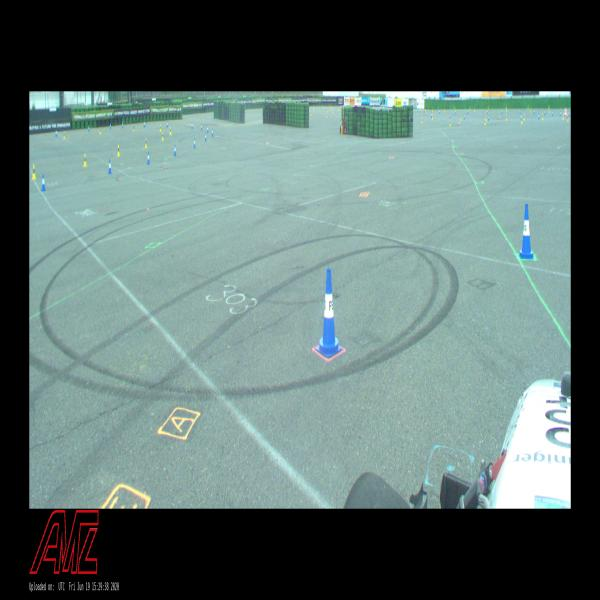blue_cone: (316, 268, 342, 357), (519, 203, 534, 260), (41, 174, 46, 191), (108, 159, 112, 174), (147, 151, 150, 165), (193, 138, 196, 148), (174, 144, 176, 156), (205, 132, 207, 142), (212, 128, 214, 137), (538, 112, 540, 120), (166, 120, 168, 128), (191, 122, 193, 130), (88, 125, 90, 132), (520, 113, 522, 118), (207, 125, 208, 133), (144, 120, 145, 128), (110, 122, 111, 130), (56, 129, 57, 137), (519, 110, 521, 114), (201, 123, 202, 131), (340, 120, 341, 128), (464, 113, 465, 120), (569, 110, 570, 117), (122, 122, 123, 128), (552, 110, 553, 116), (534, 109, 535, 115), (488, 114, 489, 120), (544, 110, 545, 116), (439, 109, 440, 114), (487, 109, 488, 114), (455, 110, 456, 114), (431, 114, 432, 118), (468, 109, 468, 114), (560, 111, 560, 116), (502, 109, 502, 114), (424, 107, 424, 112), (450, 113, 450, 118)
large_orange_cone: (564, 108, 566, 116), (566, 108, 567, 116)
orange_cone: (458, 119, 460, 126), (425, 110, 426, 116), (499, 115, 500, 120)
yellow_cone: (32, 164, 36, 179), (83, 153, 87, 167), (118, 144, 120, 157), (145, 138, 147, 148), (162, 131, 164, 141), (170, 127, 172, 135), (160, 124, 162, 132), (64, 131, 66, 139), (521, 116, 523, 124), (341, 120, 343, 128), (523, 114, 525, 121), (421, 117, 423, 124), (449, 120, 451, 126), (484, 119, 486, 125), (485, 115, 487, 120), (322, 104, 324, 109), (542, 112, 543, 121), (133, 123, 134, 132), (100, 126, 101, 134), (332, 109, 334, 113), (567, 115, 568, 122), (460, 114, 461, 120), (563, 113, 564, 119), (432, 114, 433, 120), (506, 114, 507, 120), (560, 108, 561, 114), (444, 107, 445, 112), (530, 107, 531, 112), (506, 105, 507, 110), (313, 105, 314, 110), (425, 106, 426, 111), (488, 105, 489, 110), (428, 106, 429, 111), (549, 109, 550, 113), (326, 113, 327, 117), (474, 108, 475, 112), (310, 112, 311, 116), (506, 108, 507, 112), (330, 104, 331, 108), (338, 107, 339, 111), (327, 108, 328, 112), (421, 107, 422, 110), (454, 107, 455, 110), (470, 106, 470, 110), (528, 105, 528, 110)
